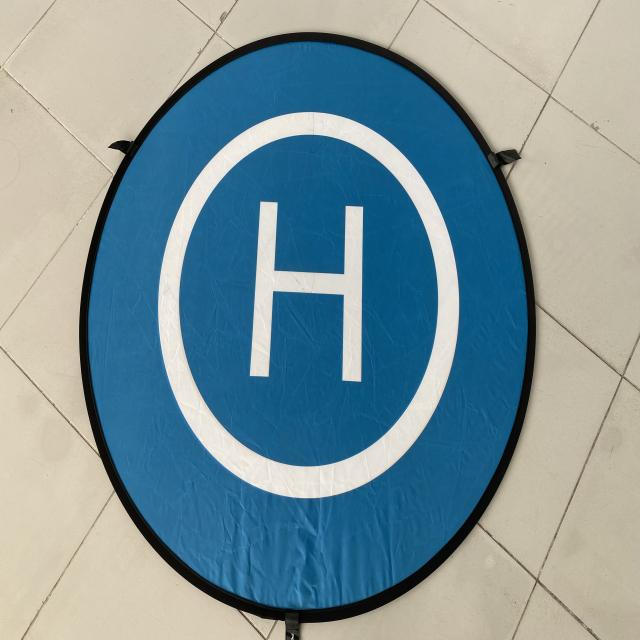helipad: (157, 108, 460, 500)
